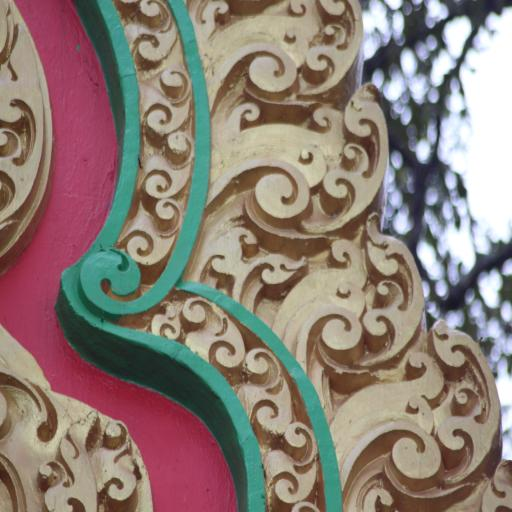la: (342, 327, 504, 508), (231, 84, 392, 242), (282, 237, 428, 377), (214, 2, 366, 106), (203, 229, 308, 298), (120, 206, 184, 278), (142, 70, 200, 140), (144, 128, 196, 202), (130, 0, 175, 74)
